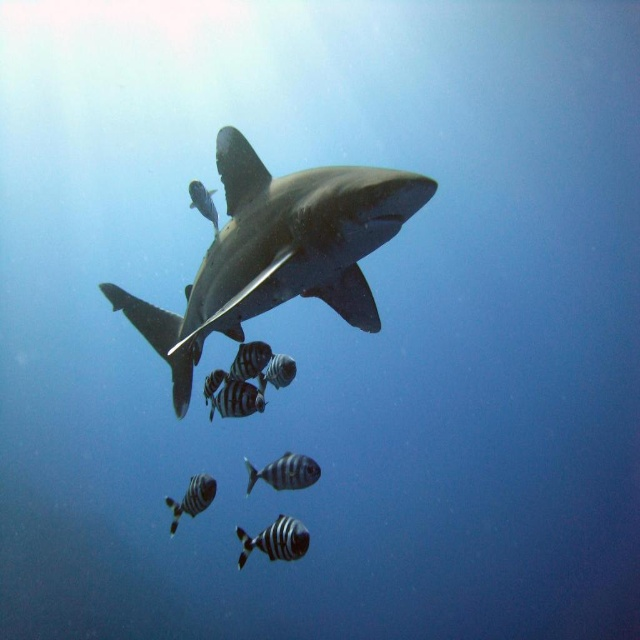Shark: (100, 127, 440, 409)
